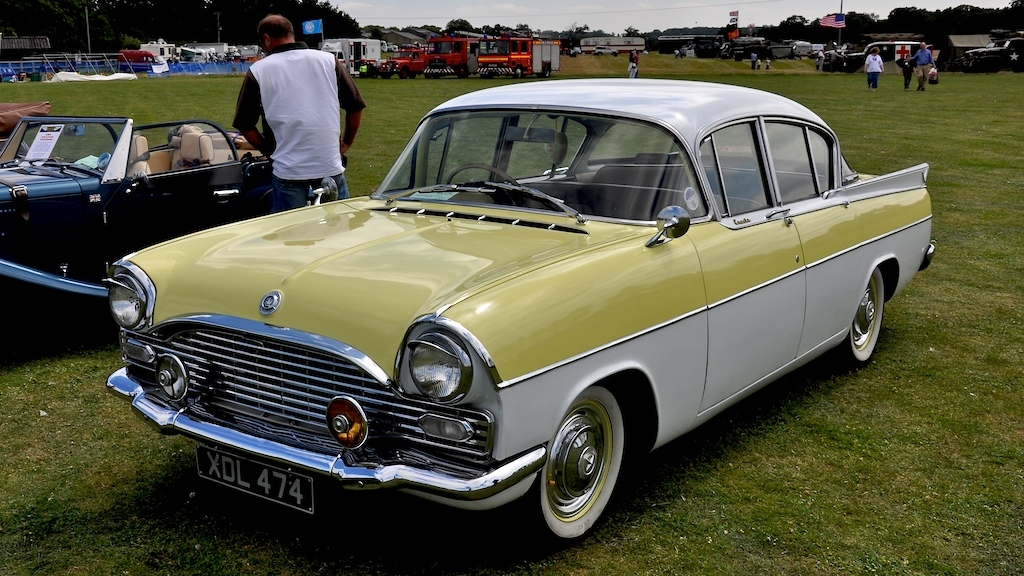Person: (908, 43, 936, 87), (863, 44, 883, 90), (896, 52, 915, 88)
